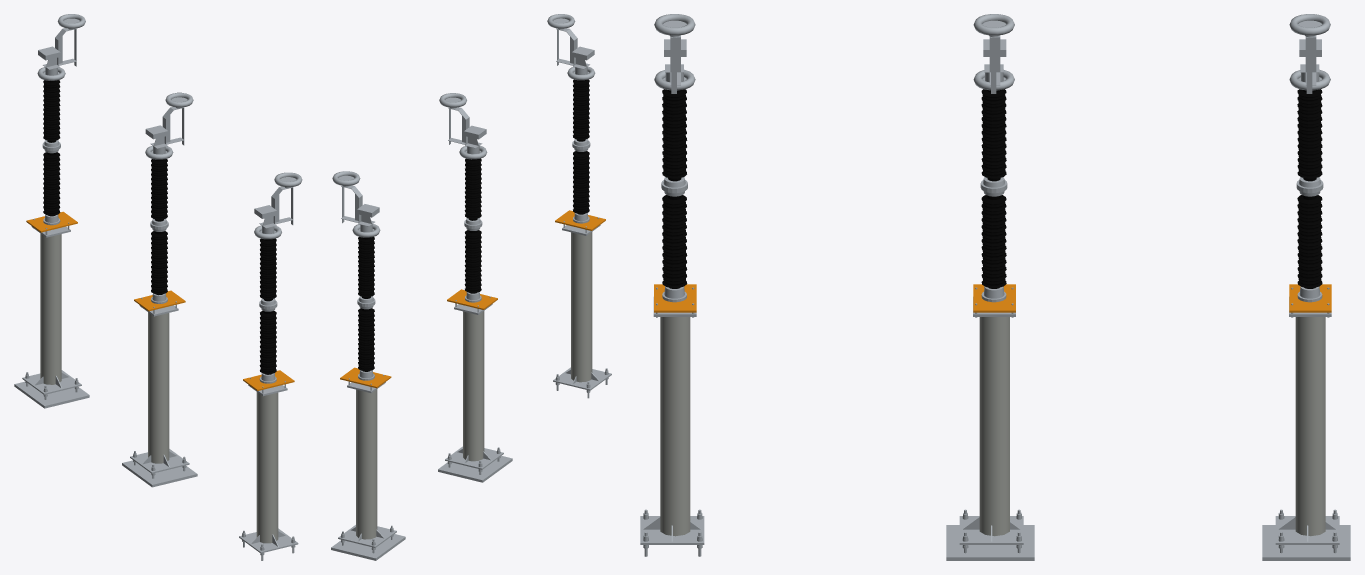
3 views of the same model, side by side, from view 1: azimuth 30°, elevation 25°; view 2: azimuth 150°, elevation 25°; view 3: azimuth 270°, elevation 25° (orthographic). The views are drawn at different scales.
Parts seen in each view (by area): view 1: 对象12098.001; view 2: 对象12098.001; view 3: 对象12098.001.
Part boxes in pixels (x1=…): 对象12098.001: x1=14, y1=14, x2=302, y2=560; 对象12098.001: x1=331, y1=14, x2=611, y2=560; 对象12098.001: x1=640, y1=14, x2=1350, y2=560.
Bounding box in the file's own units: 0.8891 × 5.61 × 6.7.
